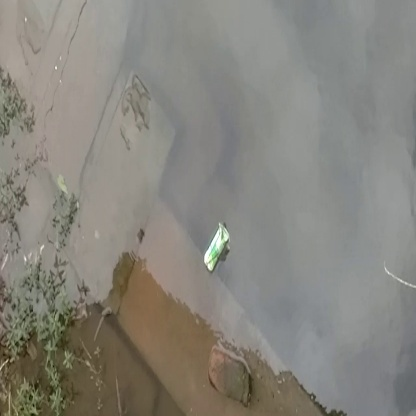milk-box: (192, 217, 245, 276)
